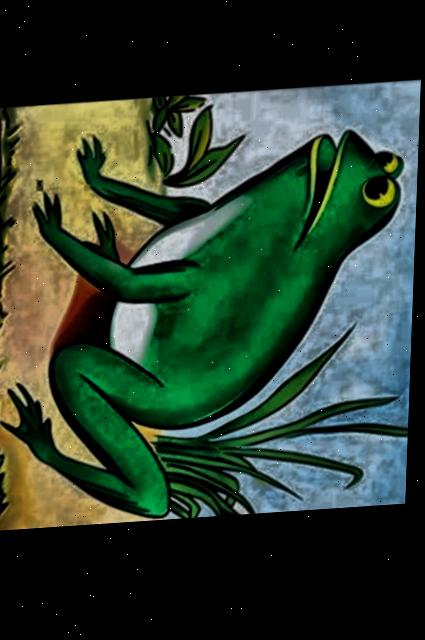La Rana: (0, 85, 422, 532)
